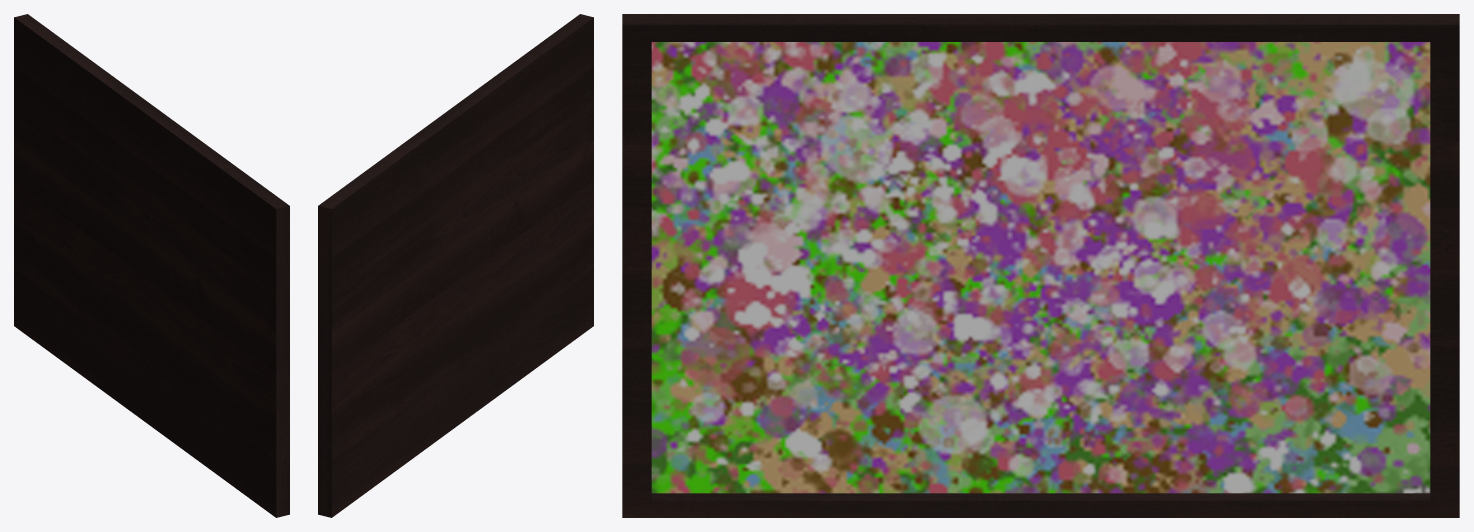
File: painting1.fbx
3 views of the same model, side by side, from view 1: azimuth 30°, elevation 25°; view 2: azimuth 150°, elevation 25°; view 3: azimuth 270°, elevation 25° (orthographic). The views are drawn at different scales.
Parts seen in each view (by area): view 1: pCube1; view 2: pCube1; view 3: pCube1.
Part boxes in pixels (left/top/right/bottom): pCube1: left=14, top=14, right=289, bottom=517; pCube1: left=318, top=14, right=593, bottom=517; pCube1: left=622, top=14, right=1459, bottom=517.
Bounding box in the file's own units: 0.0756 × 1.64 × 2.52.
Materials: 1 (1 with a texture image).
